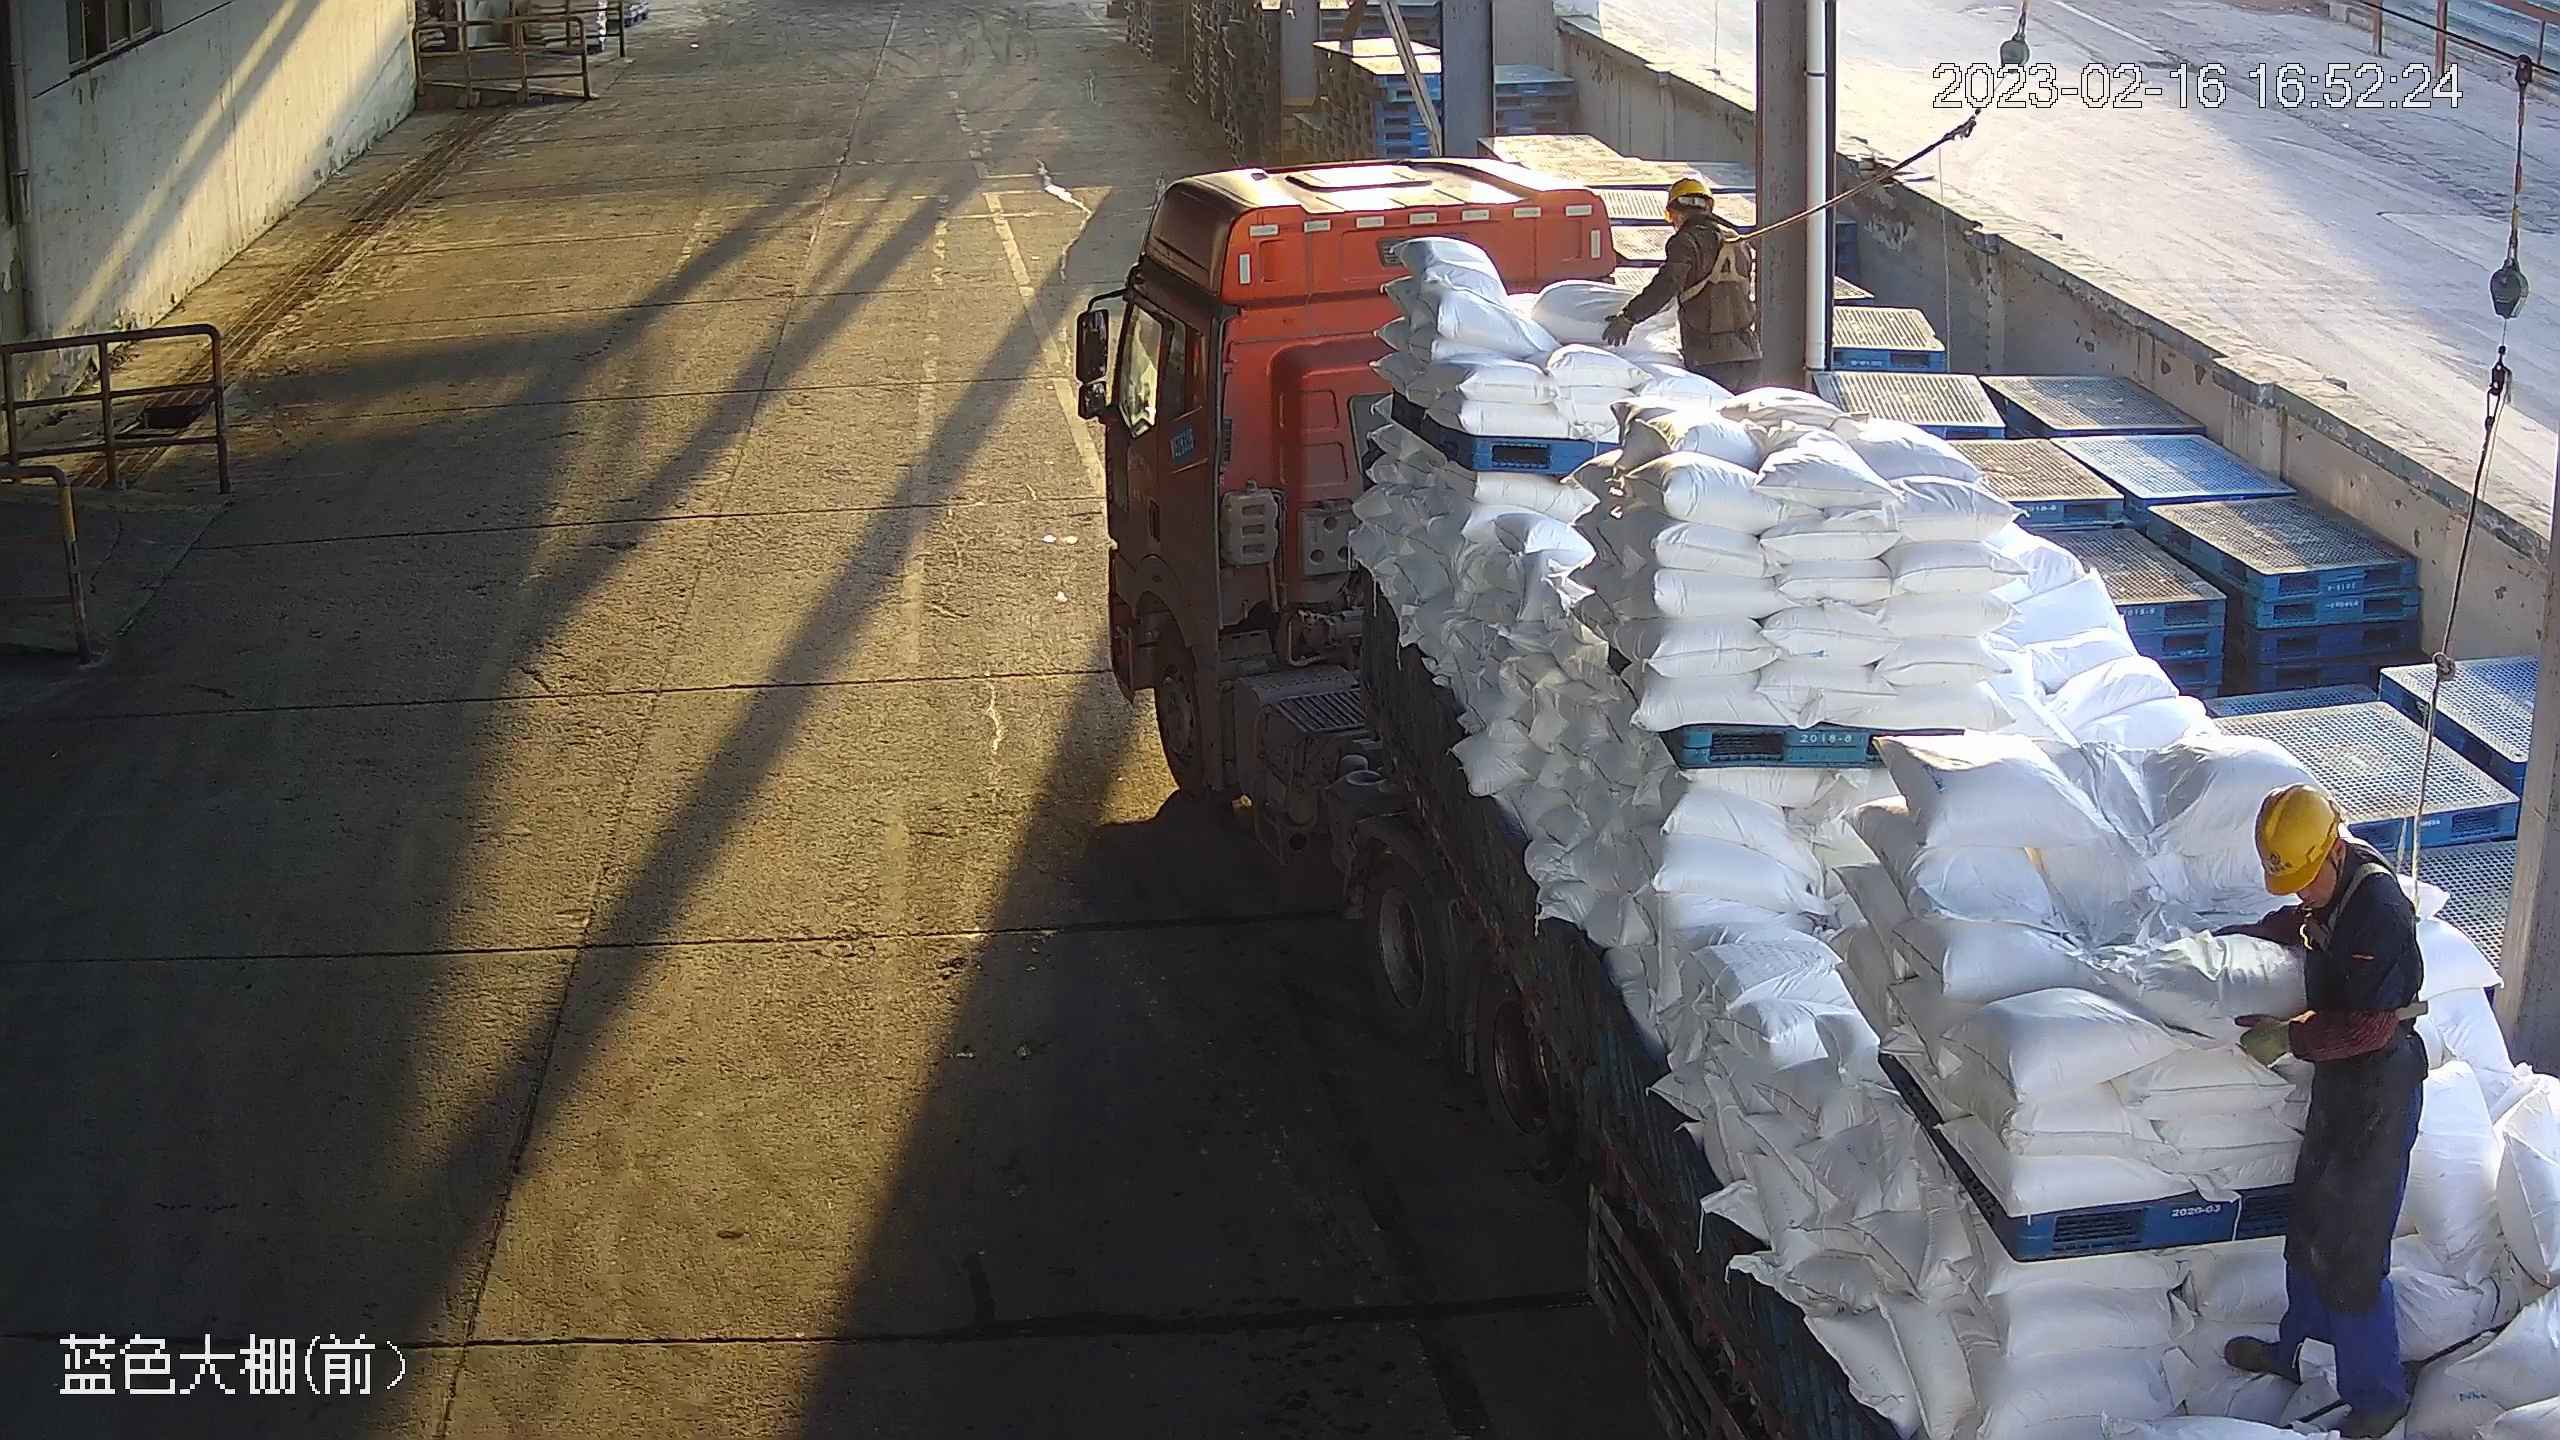belt: (2311, 828, 2414, 957), (1679, 221, 1759, 312)
head: (2231, 782, 2422, 970), (1653, 173, 1764, 273)
helmet: (2255, 776, 2351, 903), (1660, 170, 1725, 212)
people: (2248, 781, 2423, 1436)
truck: (1061, 142, 2560, 1440)
